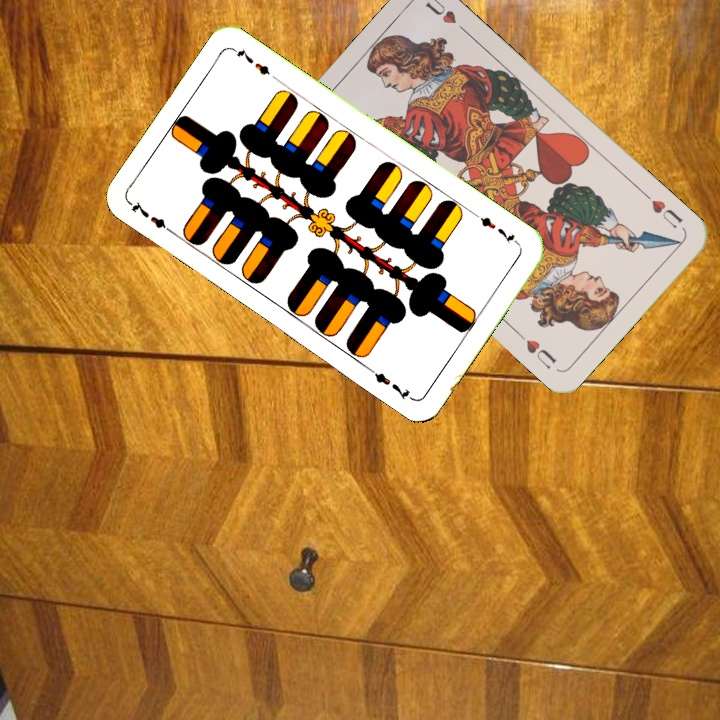E7: (126, 197, 178, 238), (470, 209, 522, 248)
HU: (639, 188, 686, 232)
